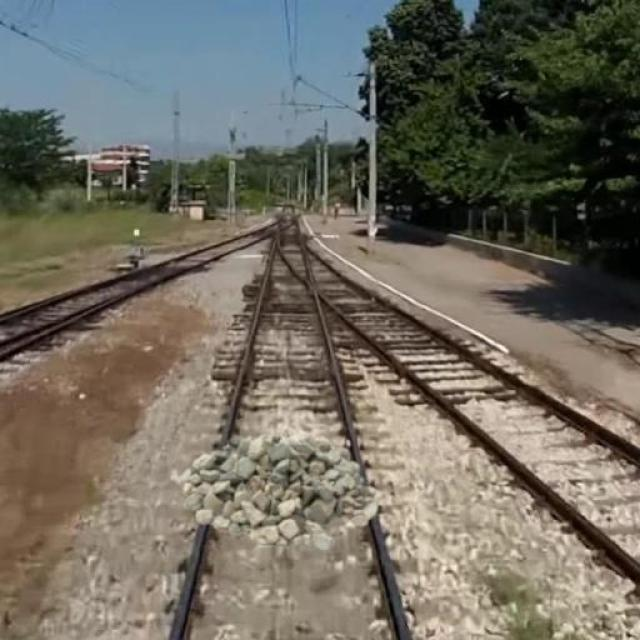Stone: (175, 429, 386, 543)
